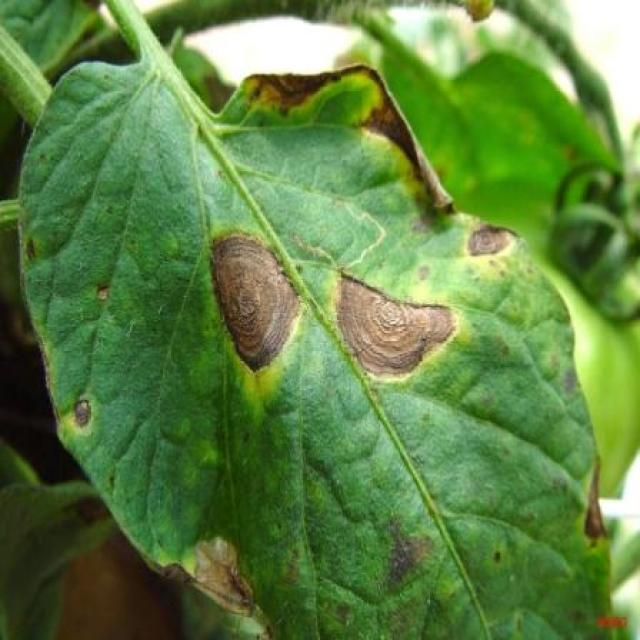Early Blight: (19, 31, 611, 640)
